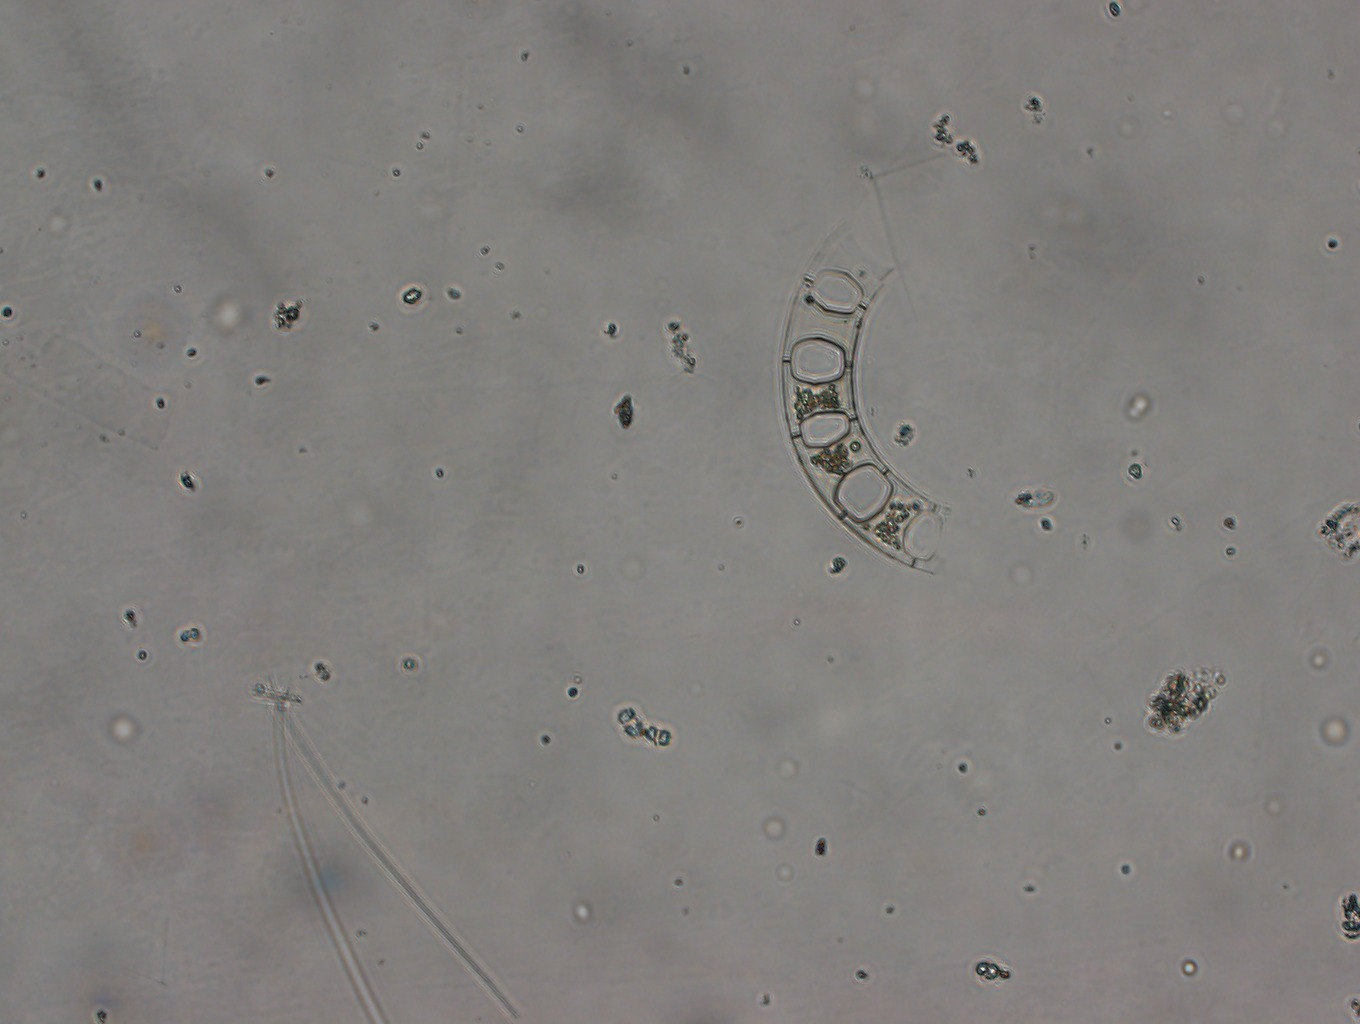eucampia: (779, 223, 951, 577)
